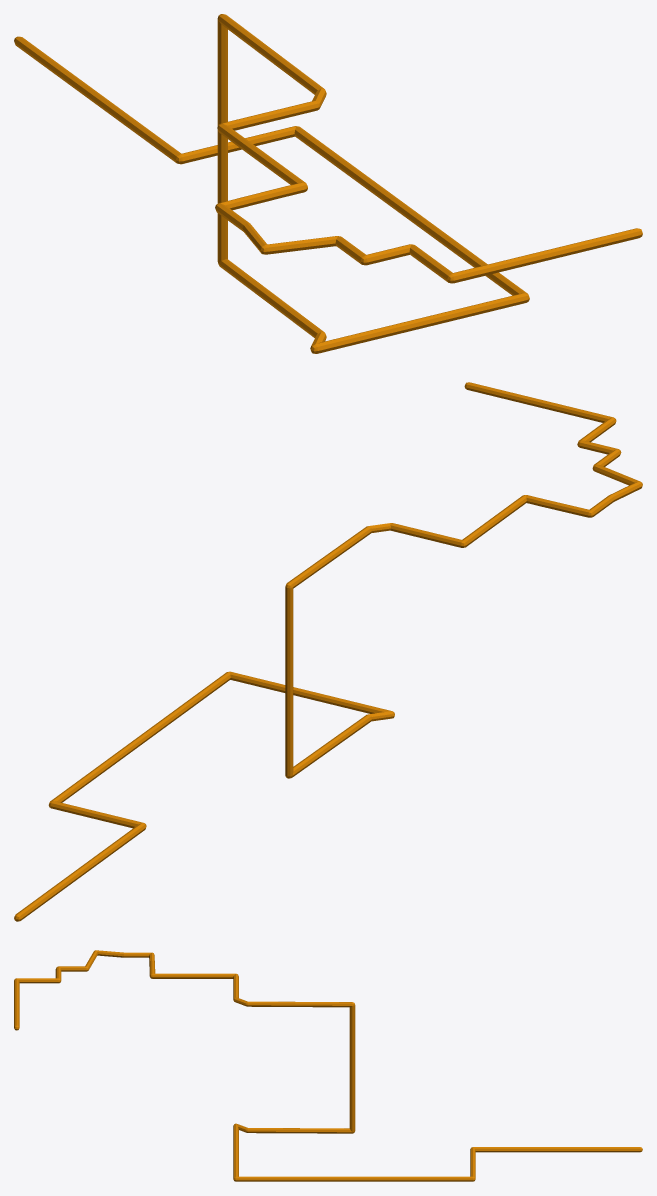
3 views of the same model, one above another, from view 1: azimuth 30°, elevation 25°; view 2: azimuth 150°, elevation 25°; view 3: azimuth 270°, elevation 25° (orthographic). The views are drawn at different scales.
Size of the model in its own units: 869 by 520 by 2257.
